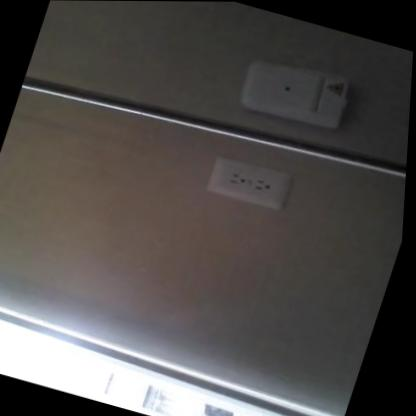OUTLET: (204, 153, 296, 212)
